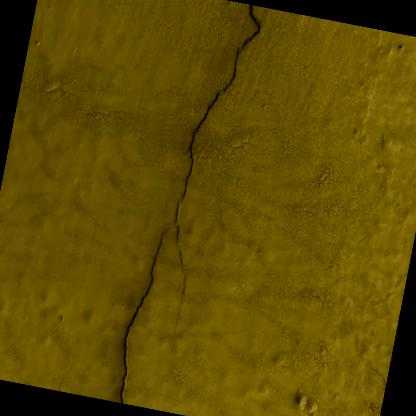crack: (174, 4, 260, 327), (120, 229, 163, 403)
